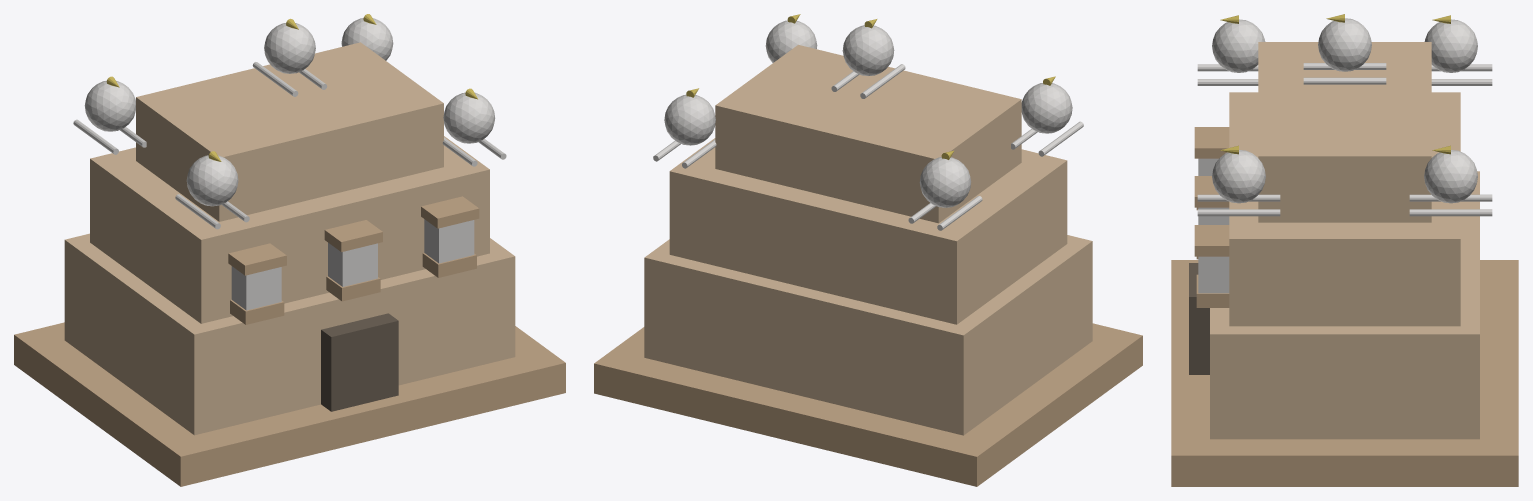
File: ancient-rajmahal.glb
3 views of the same model, side by side, from view 1: azimuth 30°, elevation 25°; view 2: azimuth 150°, elevation 25°; view 3: azimuth 270°, elevation 25° (orthographic). The views are drawn at different scales.
Visible parts, largest first — view 1: geometry_1, geometry_13, geometry_3, geometry_0, geometry_2, geometry_24, geometry_42, geometry_36, geometry_18, geometry_5, geometry_11, geometry_8 (+7 smaller); view 2: geometry_1, geometry_3, geometry_13, geometry_0, geometry_30, geometry_24, geometry_18, geometry_42, geometry_36; view 3: geometry_1, geometry_3, geometry_13, geometry_0, geometry_42, geometry_30, geometry_36, geometry_18, geometry_24, geometry_2, geometry_11, geometry_12 (+7 smaller).
Boxes of the visible parts, <box> form: geometry_1: <box>64,233,515,435</box>; geometry_13: <box>136,42,443,221</box>; geometry_3: <box>90,136,489,323</box>; geometry_0: <box>14,322,565,486</box>; geometry_2: <box>321,313,398,411</box>; geometry_24: <box>186,155,238,206</box>; geometry_42: <box>264,23,315,73</box>; geometry_36: <box>443,92,495,143</box>; geometry_18: <box>84,80,135,131</box>; geometry_5: <box>231,266,281,310</box>; geometry_11: <box>424,219,474,263</box>; geometry_8: <box>328,242,377,286</box>; geometry_1: <box>644,235,1092,435</box>; geometry_3: <box>669,138,1067,324</box>; geometry_13: <box>715,44,1021,223</box>; geometry_0: <box>594,323,1142,486</box>; geometry_30: <box>664,94,715,145</box>; geometry_24: <box>1021,83,1072,133</box>; geometry_18: <box>919,157,971,207</box>; geometry_42: <box>842,25,894,75</box>; geometry_36: <box>765,20,817,62</box>; geometry_1: <box>1210,171,1479,439</box>; geometry_3: <box>1229,92,1460,326</box>; geometry_13: <box>1258,42,1431,222</box>; geometry_0: <box>1171,260,1518,486</box>; geometry_42: <box>1318,18,1371,71</box>; geometry_30: <box>1424,150,1477,203</box>; geometry_36: <box>1212,150,1265,203</box>; geometry_18: <box>1424,19,1477,72</box>; geometry_24: <box>1212,19,1265,72</box>; geometry_2: <box>1189,263,1209,374</box>; geometry_11: <box>1198,256,1229,293</box>; geometry_12: <box>1194,225,1229,256</box>.
Size of the model in its own units: 24 by 21.45 by 18.
